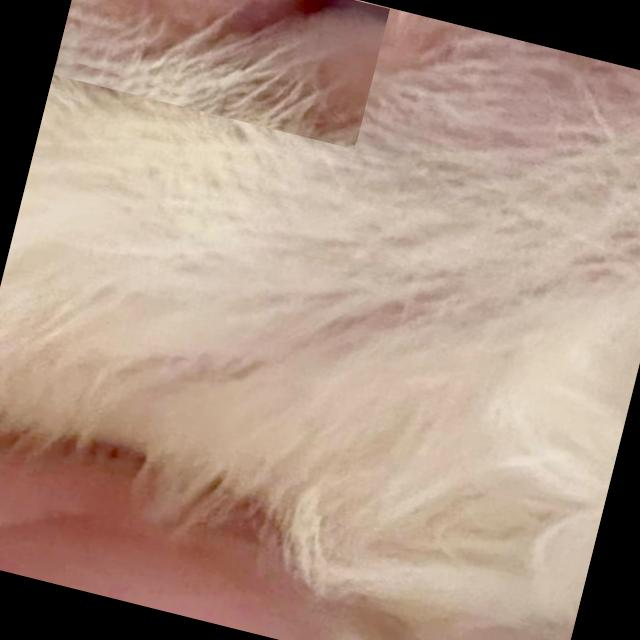fem: (55, 0, 383, 148)
